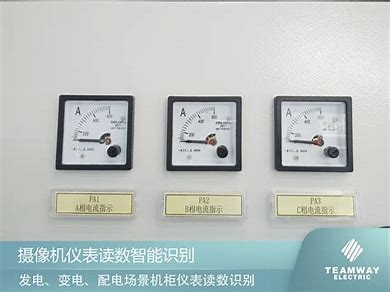pointer: (170, 100, 238, 167), (280, 100, 348, 167), (62, 99, 128, 164)
